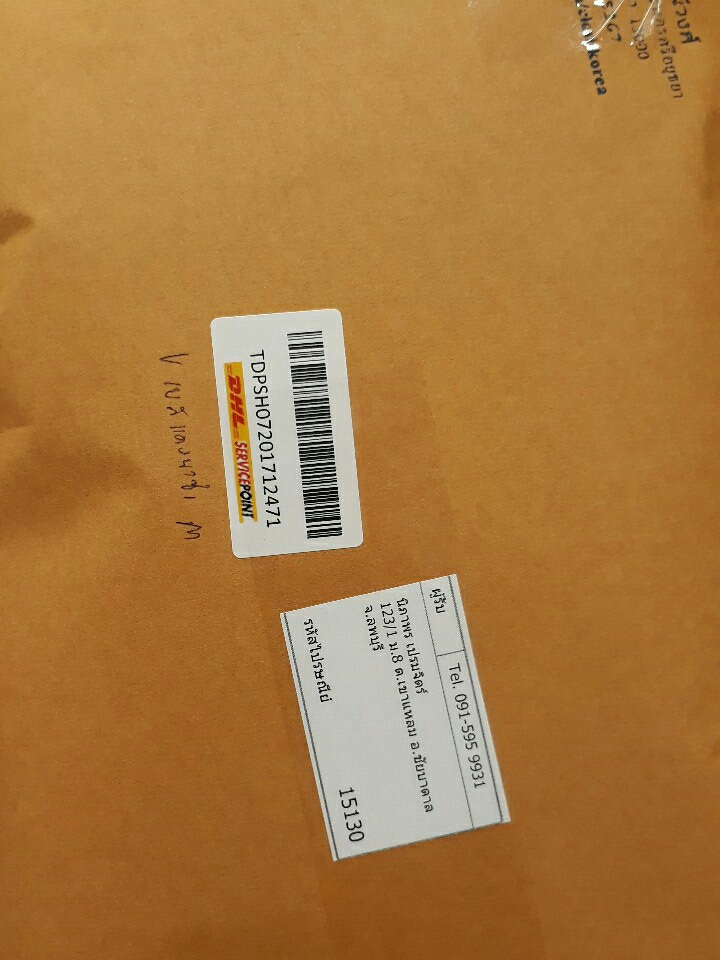ba: (207, 304, 376, 561)
txt: (300, 584, 490, 851)
